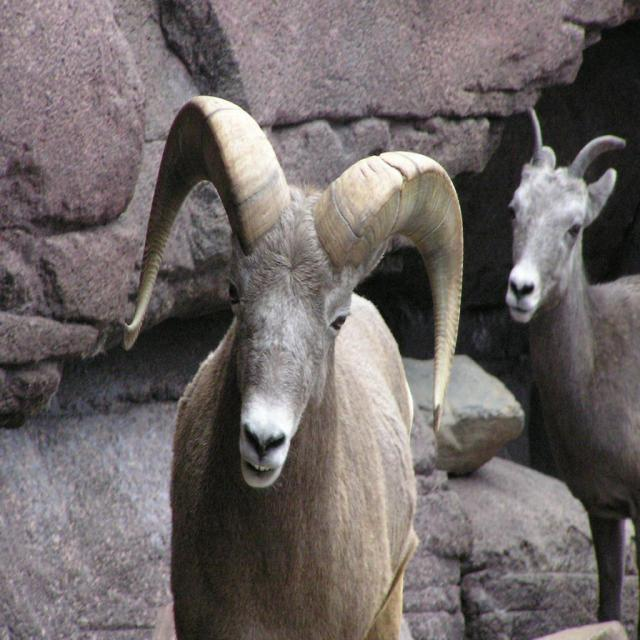Sheep: (124, 96, 463, 640), (506, 103, 640, 640)
